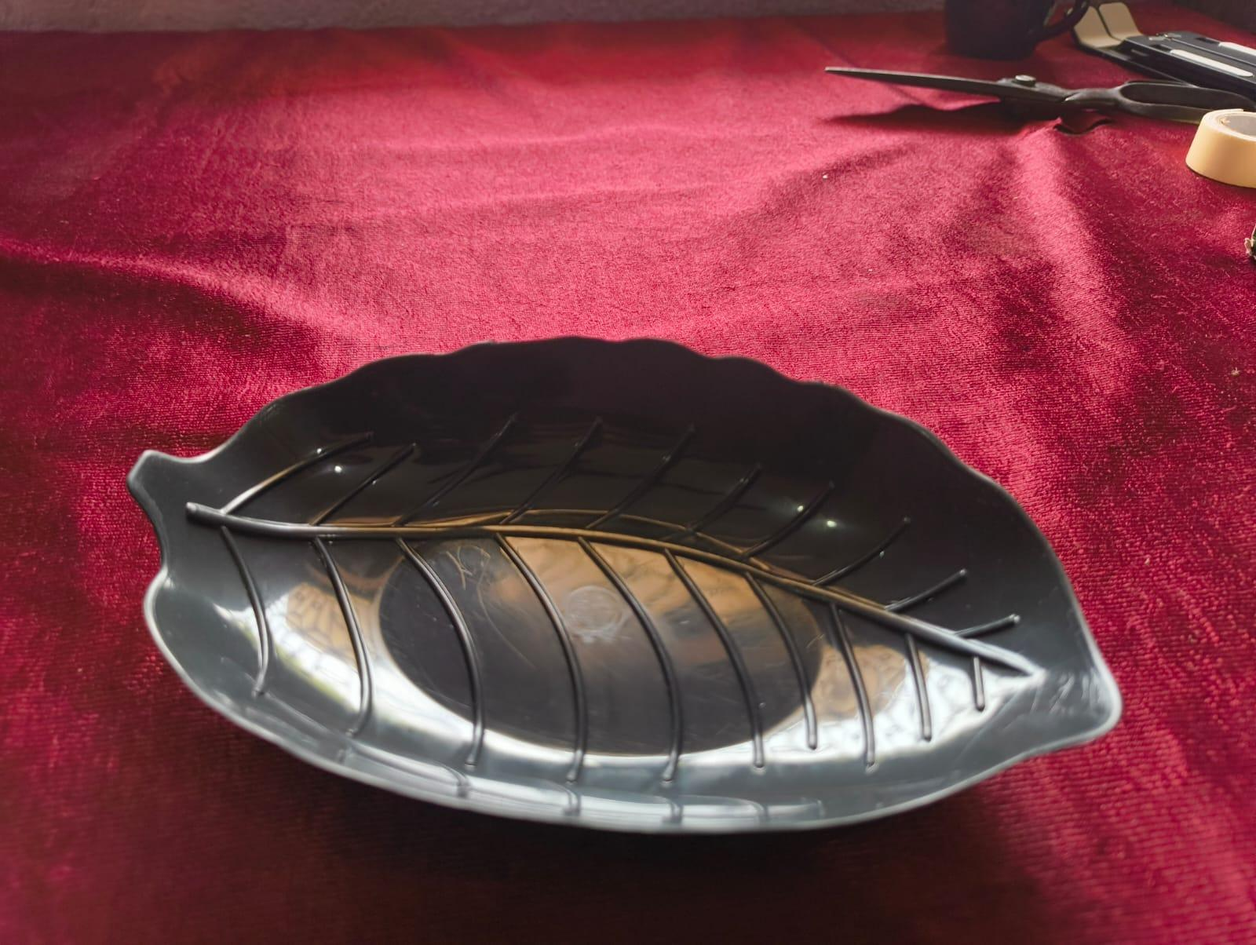plate: (130, 329, 1146, 858)
